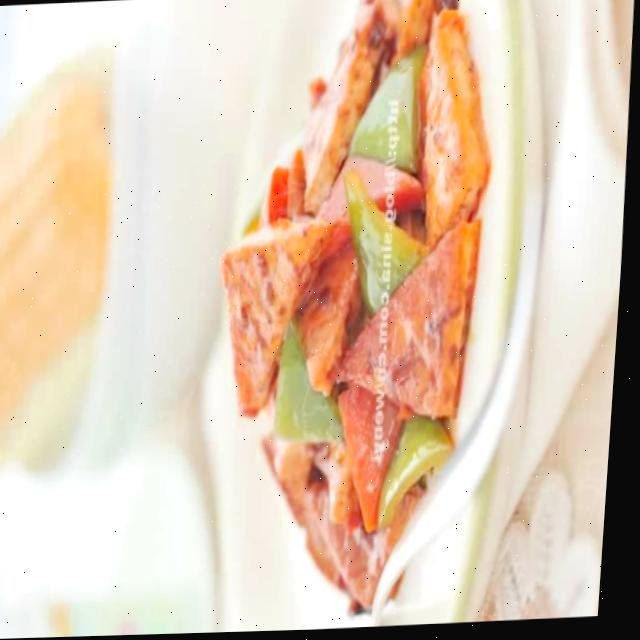豆腐料理: (166, 0, 543, 635)
